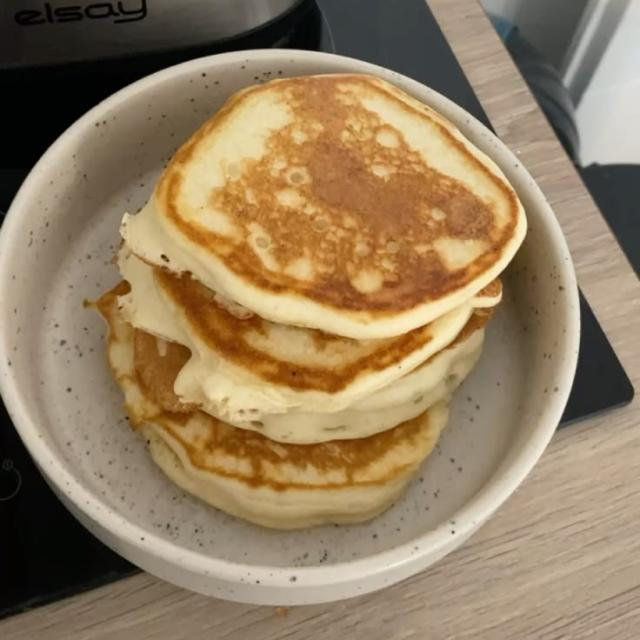pancake: (121, 75, 526, 339), (97, 285, 446, 528), (120, 249, 501, 422), (230, 310, 490, 444)
